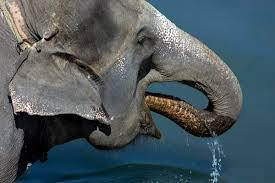elephant: (0, 0, 241, 182)
